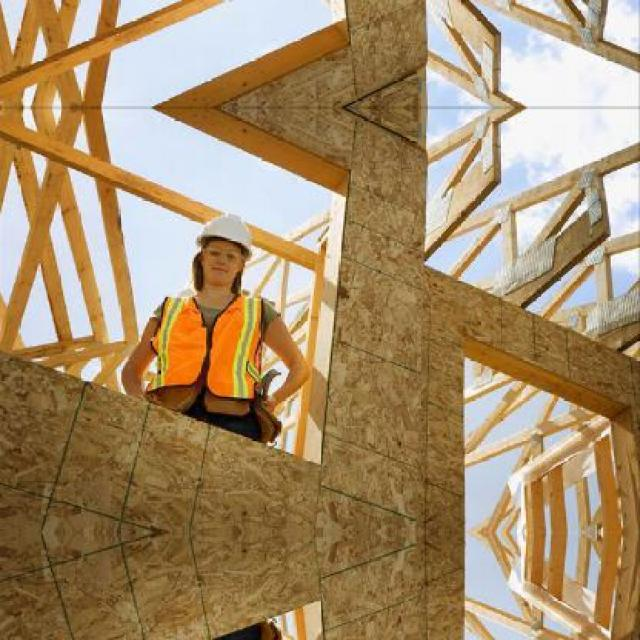Reflective-Jacket: (139, 285, 286, 420)
Safety-Helmet: (188, 206, 263, 265)
